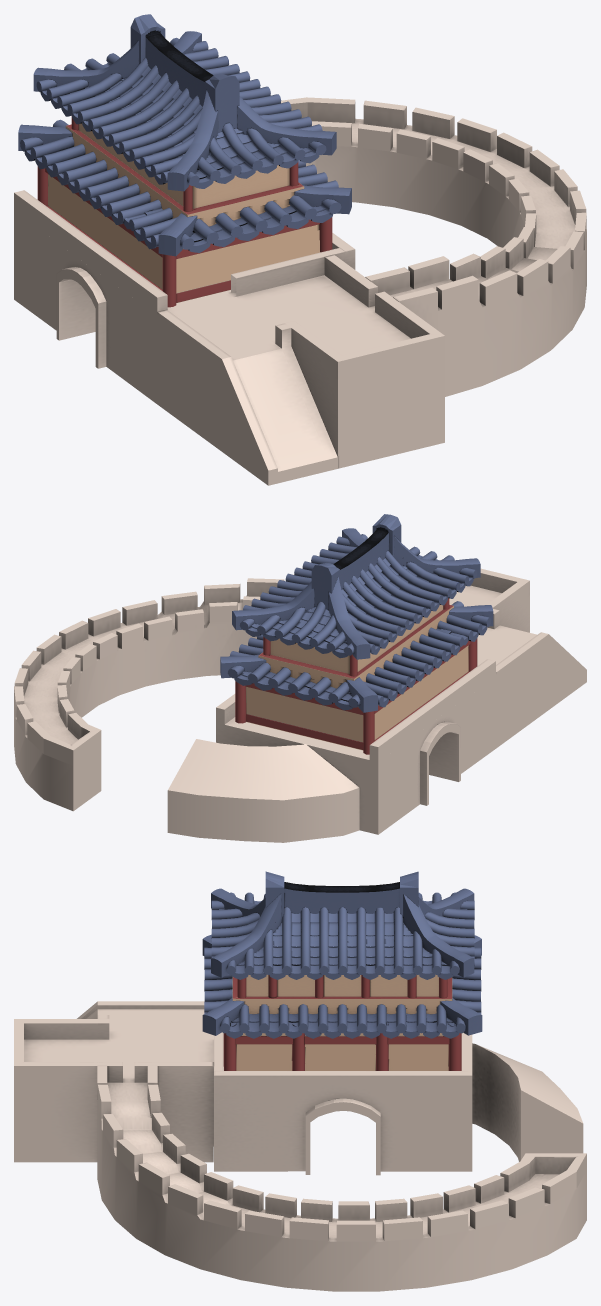
The model's file is Heunginjimoon.glb.
3 renders of one model, top to bottom at view 1: azimuth 30°, elevation 25°; view 2: azimuth 150°, elevation 25°; view 3: azimuth 270°, elevation 25°, orthographic. The views are drawn at different scales.
Visible parts, largest first — view 1: Box053, Box061, Box060, Box059, Group021, Box057, Box056, Box058, Box055, Cylinder328, Cylinder326, Cylinder327 (+8 smaller); view 2: Box061, Group022, Box060, Box053, Box059, Group021, Box057, Box056, Box058, Box055, Cylinder326, Cylinder324 (+9 smaller); view 3: Box061, Box053, Box060, Group021, Group022, Box059, Box057, Box056, Box055, Box058, Cylinder344, Cylinder345 (+5 smaller).
Boxes of the visible parts, x1,y1,x2,y2 form: Box053: (157,248,444,485); Box061: (281,97,586,396); Box060: (14,190,355,403); Box059: (45,168,320,302); Group021: (24,14,333,252); Box057: (65,123,304,226); Box056: (33,31,336,191); Box058: (18,124,351,256); Box055: (145,33,213,106); Cylinder328: (119,95,199,152); Cylinder326: (98,80,179,137); Cylinder327: (109,88,189,145); Box061: (14,574,293,811); Group022: (167,739,359,842); Box060: (216,659,495,834); Box053: (441,559,586,748); Box059: (245,641,470,750); Group021: (234,514,487,710); Box057: (258,604,453,688); Box056: (232,528,480,659); Box058: (220,605,493,712); Box055: (333,529,388,589); Cylinder326: (360,569,426,616); Cylinder324: (343,581,409,628); Box061: (97,1065,586,1291); Box053: (14,1001,223,1162); Box060: (214,1032,472,1175); Group021: (212,871,467,1038); Group022: (472,1043,583,1161); Box059: (235,1033,449,1070); Box057: (232,974,452,1014); Box056: (211,888,474,977); Box055: (284,882,399,913); Box058: (202,934,482,1035); Cylinder344: (300,907,310,974); Cylinder345: (319,907,328,974).
Bounding box in the file's own units: 1.51 × 0.8507 × 1.74.
Materials: 2 (2 with a texture image).
